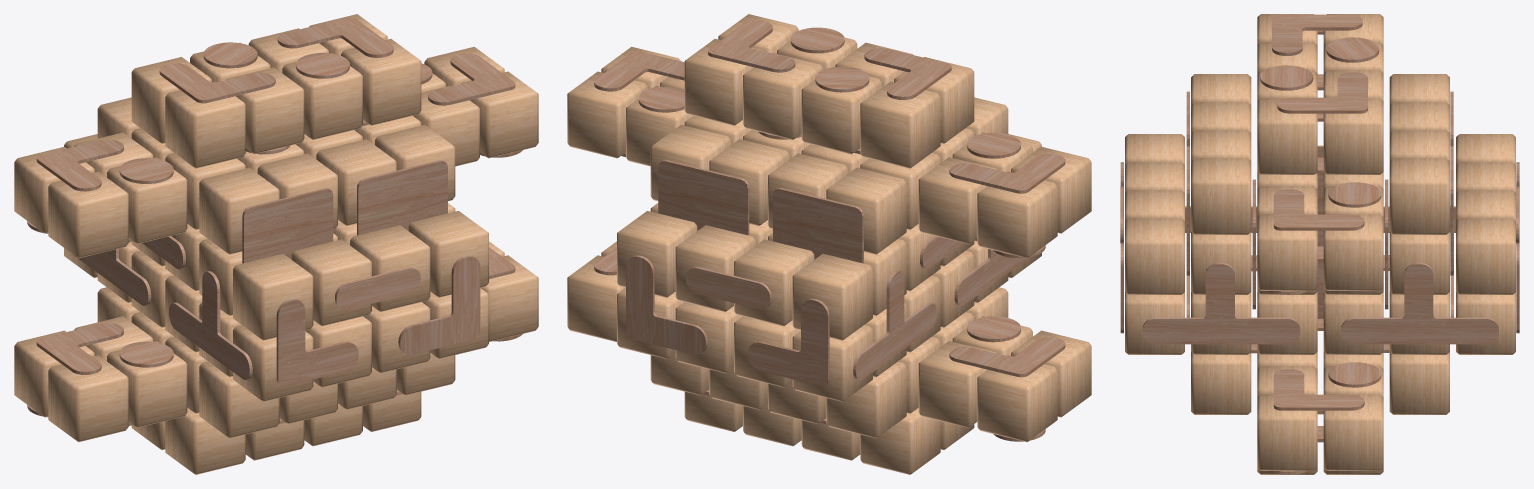
File: level_67.fbx
The picture shows the model from 3 angles, left to right: view 1: azimuth 30°, elevation 25°; view 2: azimuth 150°, elevation 25°; view 3: azimuth 270°, elevation 25°; orthographic projection. The views are drawn at different scales.
Parts seen in each view (by area): view 1: Cube.069, Cube.065, obj_obs_square.009, Cube.036, obj_obs_square.001, Cube.100, Cube.035, Cube.019, Cube.033, obj_obs_L.001, obj_obs_L.002, Cube.099 (+61 smaller); view 2: Cube.040, obj_obs_square.004, obj_obs_square.003, Cube.071, Cube.067, Cube.108, Cube.044, Cube.038, Cube.028, Cube.072, Cube.068, obj_obs_L.004 (+62 smaller); view 3: obj_obs_T.003, obj_obs_T.004, Cube.018, Cube.027, Cube.099, Cube.107, Cube.035, Cube.044, Cube.064, Cube.039, Cube.062, Cube.042 (+48 smaller).
Part boxes in pixels (x1,y1,x2,y2): Cube.069: (48,355,128,442); Cube.065: (48,171,128,258); obj_obs_square.009: (242,188,333,263); Cube.036: (165,81,245,168); obj_obs_square.001: (357,160,447,235); Cube.100: (233,253,313,340); Cube.035: (341,39,421,125); Cube.019: (199,167,279,254); Cube.033: (226,67,304,154); obj_obs_L.001: (398,255,480,354); obj_obs_L.002: (276,299,358,386); Cube.099: (408,211,488,297); Cube.040: (860,81,940,168); obj_obs_square.004: (658,160,749,235); obj_obs_square.003: (773,188,863,263); Cube.071: (977,355,1057,442); Cube.067: (977,171,1057,258); Cube.108: (792,253,872,340); Cube.044: (567,71,647,158); Cube.038: (743,53,823,139); Cube.028: (826,167,906,254); Cube.072: (918,341,996,427); Cube.068: (918,157,996,243); obj_obs_L.004: (626,255,707,354); obj_obs_T.003: (1142,262,1300,344); obj_obs_T.004: (1341,262,1498,344); Cube.018: (1191,158,1251,234); Cube.027: (1389,158,1449,234); Cube.099: (1125,218,1184,294); Cube.107: (1456,218,1515,294); Cube.035: (1257,98,1317,174); Cube.044: (1323,214,1383,290); Cube.064: (1323,394,1383,470); Cube.039: (1323,98,1383,174); Cube.062: (1257,394,1317,470); Cube.042: (1257,214,1317,290).
Bounding box in the file's own units: 17.4 × 13.17 × 13.28.
